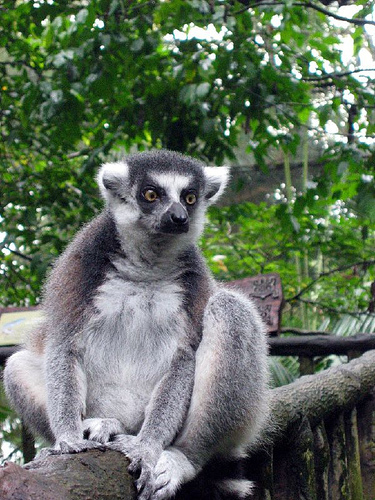cat: (0, 147, 271, 498)
